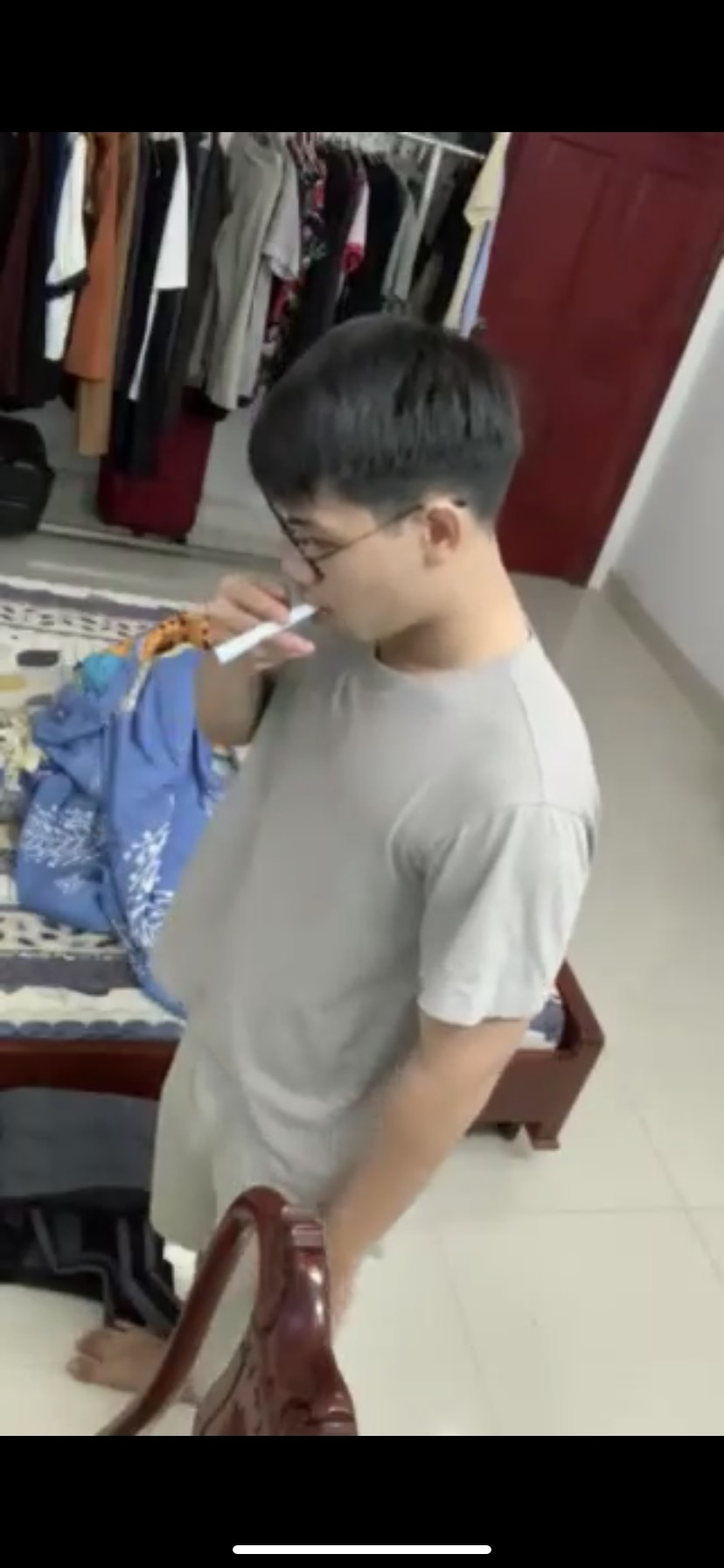cigarette: (198, 612, 345, 660)
person: (124, 288, 616, 1341)
